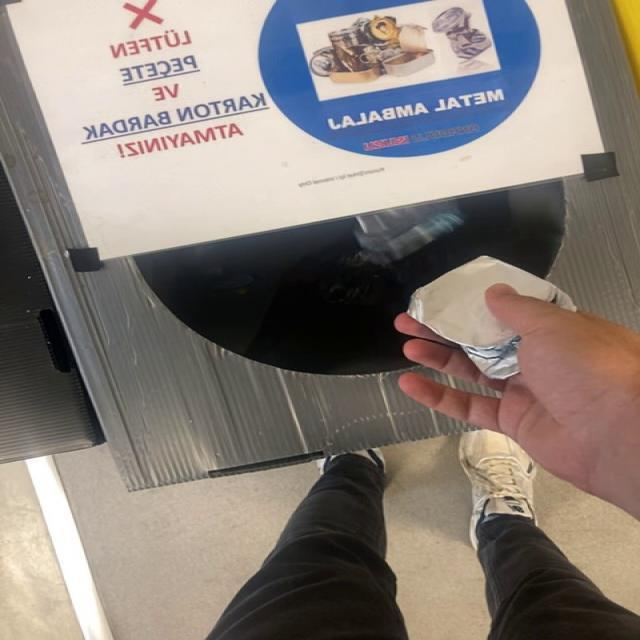Bin: (3, 19, 565, 490), (555, 0, 639, 326)
Metal: (408, 256, 577, 380)
